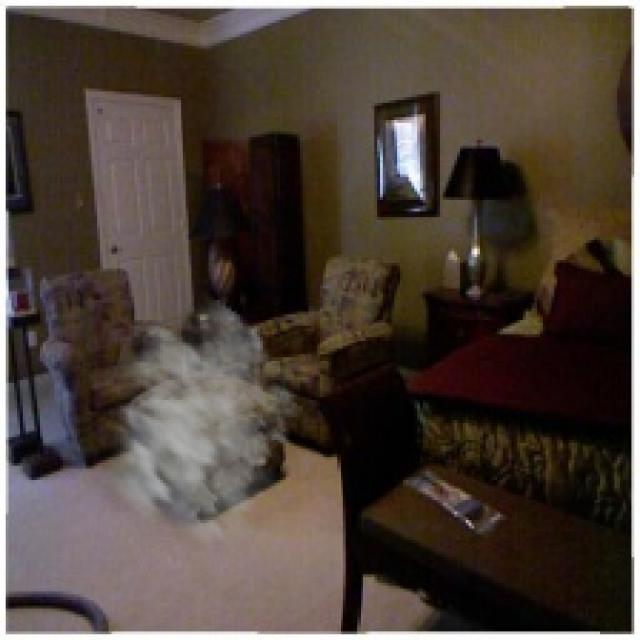smoke: (71, 286, 306, 560)
